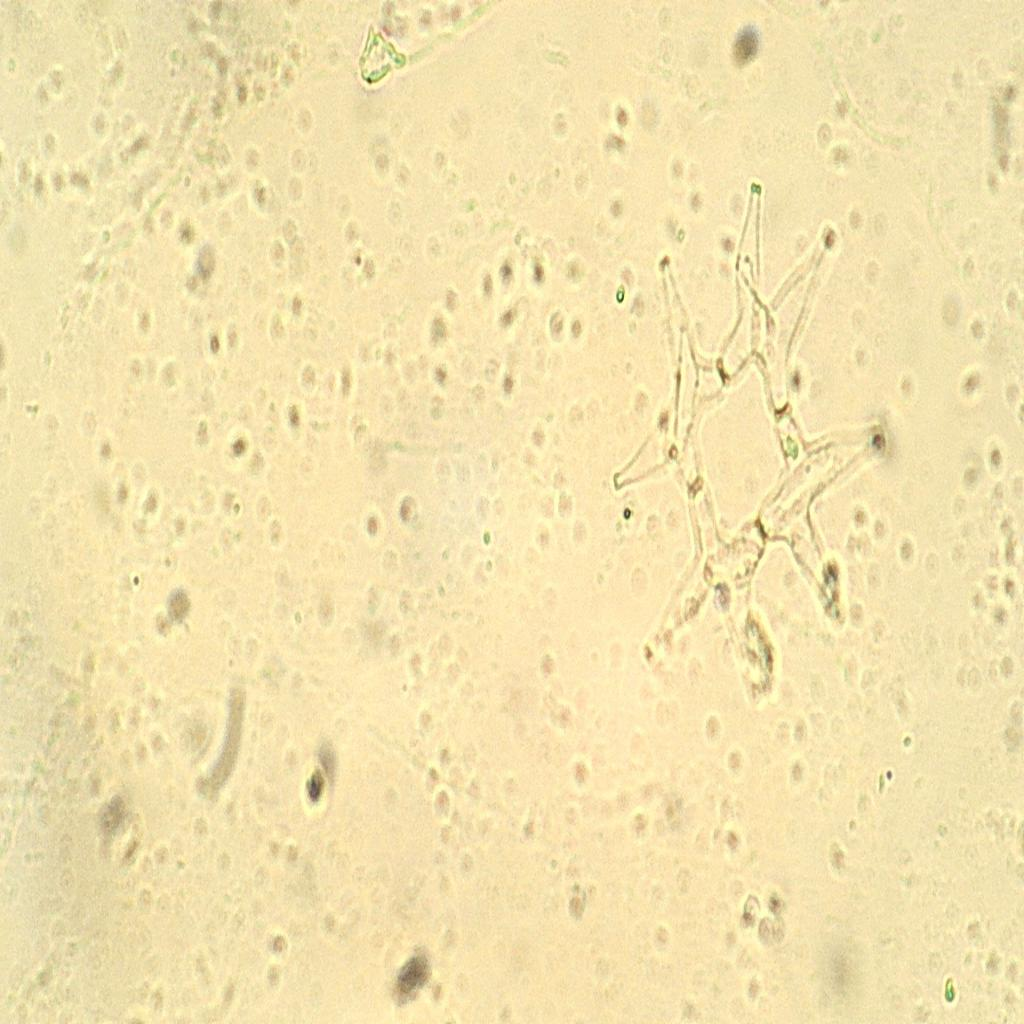Pediastrum_1F0: (604, 164, 898, 726)
